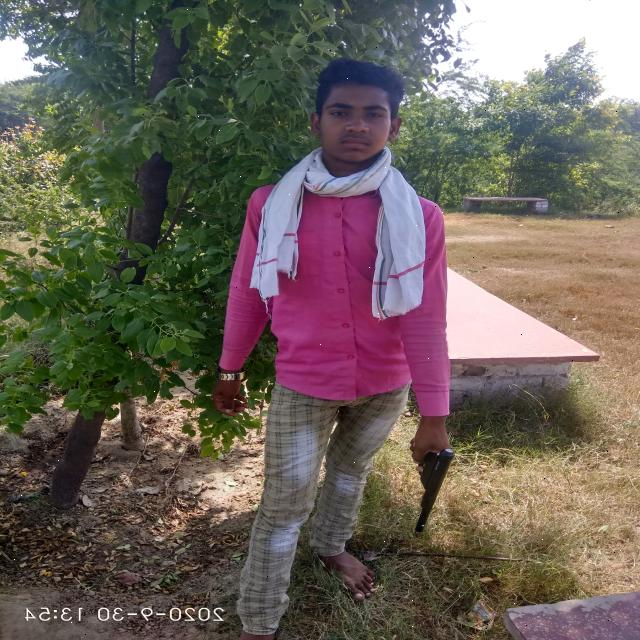gun: (400, 442, 462, 538)
